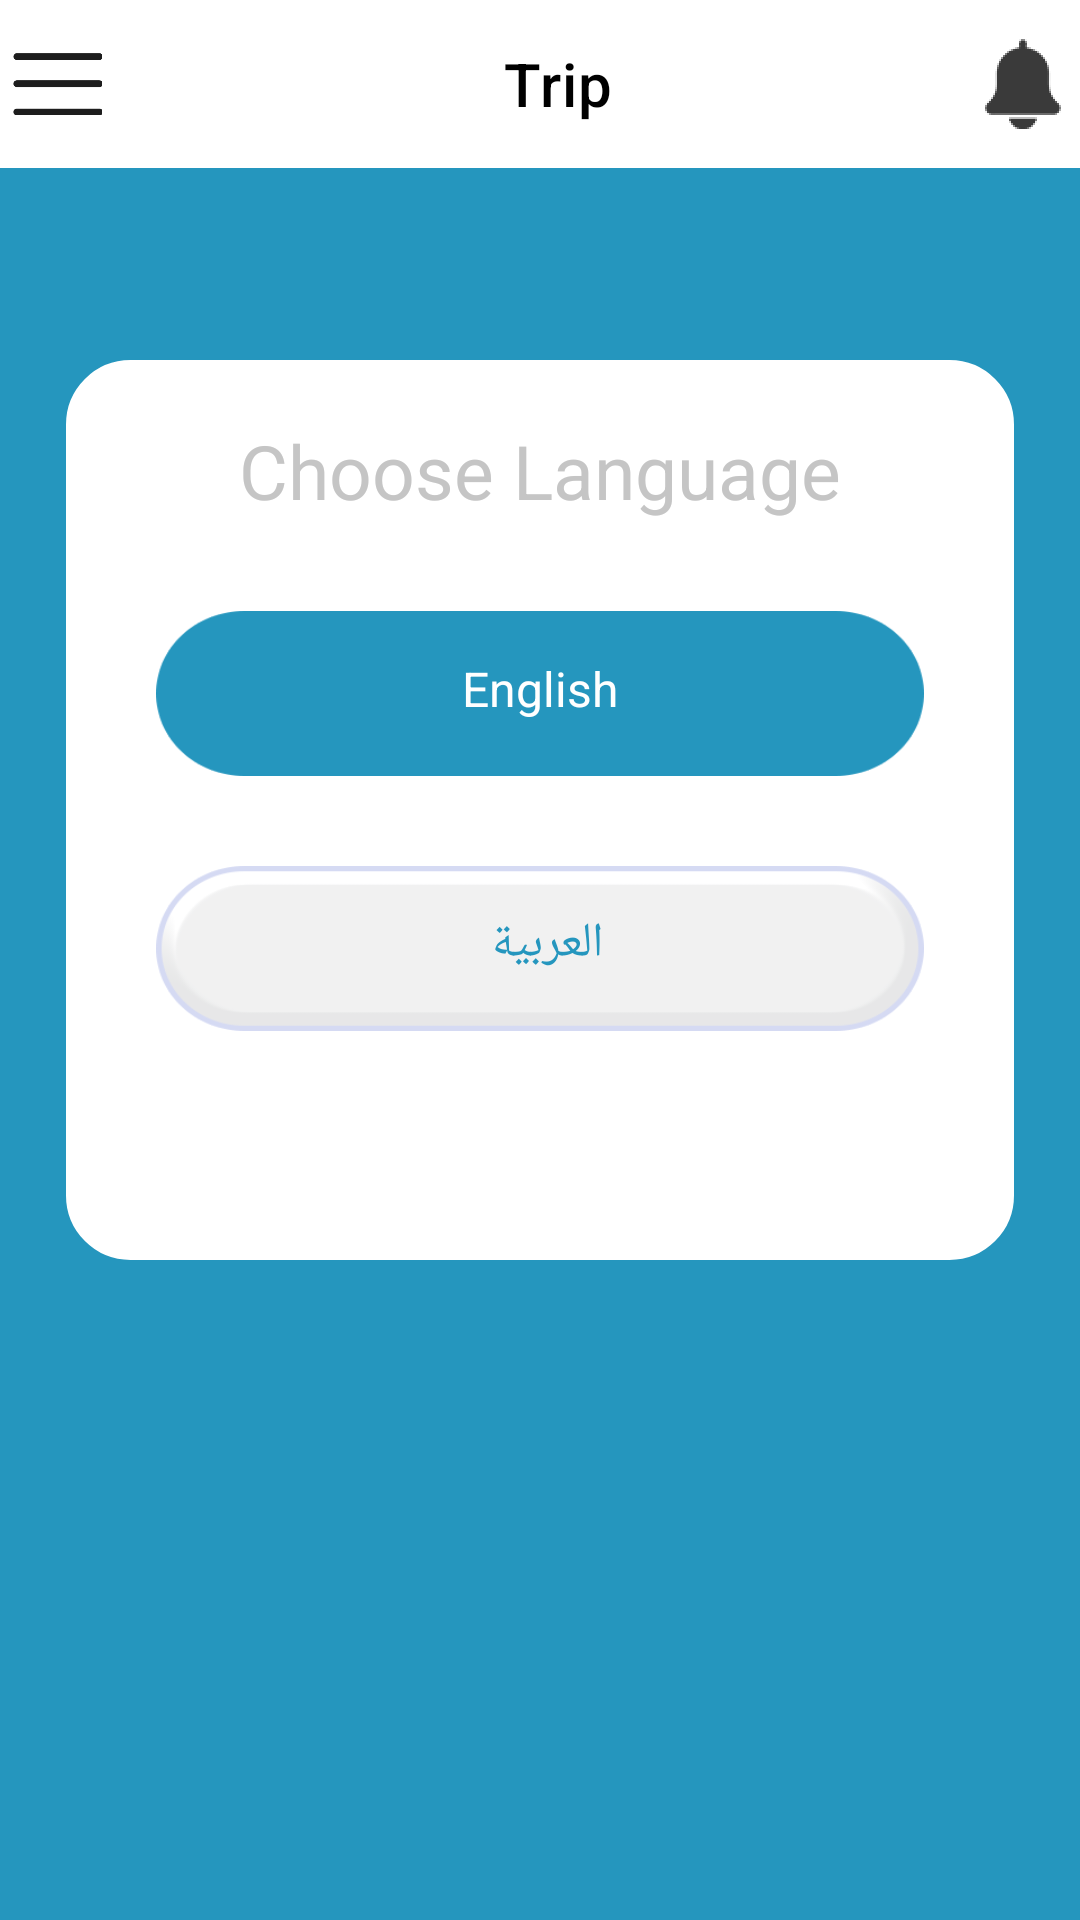

Screen size 1080px x 1920px. Icon name, then its center in pixels as (x,y):
menu: (57,84)
notifcation: (1023,84)
